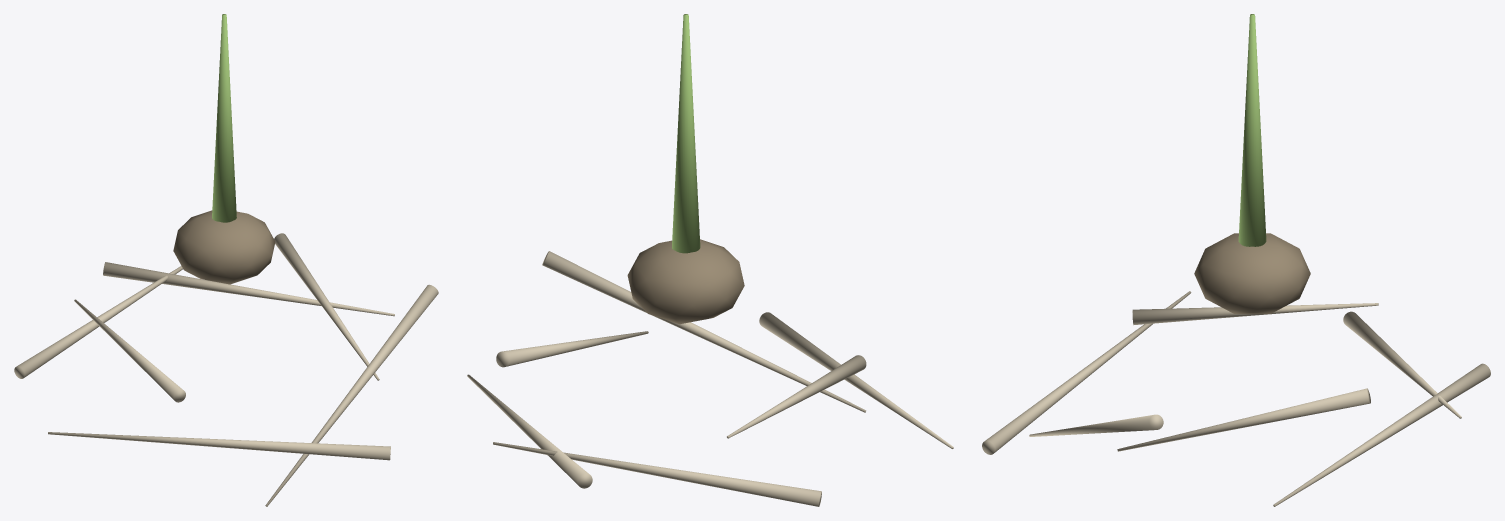
File: yam_1.glb
3 views of the same model, side by side, from view 1: azimuth 30°, elevation 25°; view 2: azimuth 150°, elevation 25°; view 3: azimuth 270°, elevation 25° (orthographic). The views are drawn at different scales.
Parts seen in each view (by area): view 1: UbeSeed, UbeSprout, Root_04, Root_01, Root_05, Root_02, Root_00, Root_03; view 2: UbeSeed, UbeSprout, Root_02, Root_05, Root_04, Root_01, Root_03, Root_00; view 3: UbeSeed, UbeSprout, Root_00, Root_01, Root_04, Root_03, Root_02, Root_05.
Boxes of the visible parts, x1=… form: UbeSeed: x1=173, y1=210, x2=275, y2=284; UbeSprout: x1=212, y1=14, x2=236, y2=222; Root_04: x1=48, y1=432, x2=390, y2=460; Root_01: x1=103, y1=262, x2=394, y2=316; Root_05: x1=265, y1=284, x2=438, y2=506; Root_02: x1=14, y1=266, x2=182, y2=378; Root_00: x1=274, y1=233, x2=379, y2=380; Root_03: x1=74, y1=299, x2=185, y2=402; UbeSeed: x1=627, y1=239, x2=744, y2=324; UbeSprout: x1=672, y1=14, x2=700, y2=253; Root_02: x1=493, y1=442, x2=821, y2=506; Root_05: x1=542, y1=251, x2=866, y2=412; Root_04: x1=759, y1=312, x2=953, y2=448; Root_01: x1=467, y1=374, x2=592, y2=488; Root_03: x1=727, y1=355, x2=866, y2=438; Root_00: x1=496, y1=331, x2=648, y2=367; UbeSeed: x1=1194, y1=233, x2=1310, y2=313; UbeSprout: x1=1238, y1=14, x2=1266, y2=246; Root_00: x1=1117, y1=388, x2=1370, y2=451; Root_01: x1=1273, y1=363, x2=1490, y2=506; Root_04: x1=982, y1=291, x2=1191, y2=454; Root_03: x1=1132, y1=303, x2=1378, y2=325; Root_02: x1=1343, y1=311, x2=1461, y2=418; Root_05: x1=1029, y1=414, x2=1163, y2=436.
Bounding box in the file's own units: 0.3837 × 0.3855 × 0.3924.
